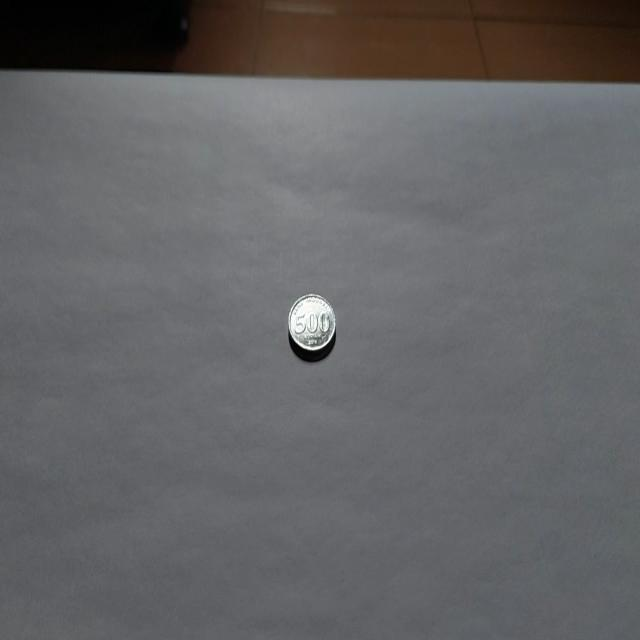lima ratus rupiah: (287, 291, 336, 361)
